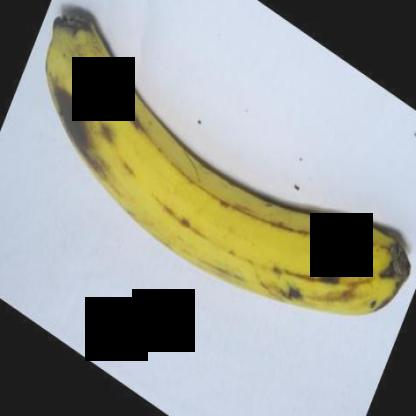ripe: (43, 6, 406, 341)
